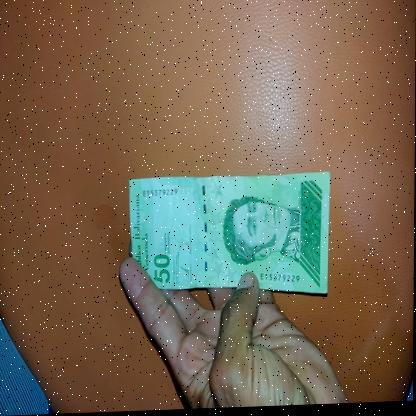fifty-front-vef: (127, 174, 331, 302)
